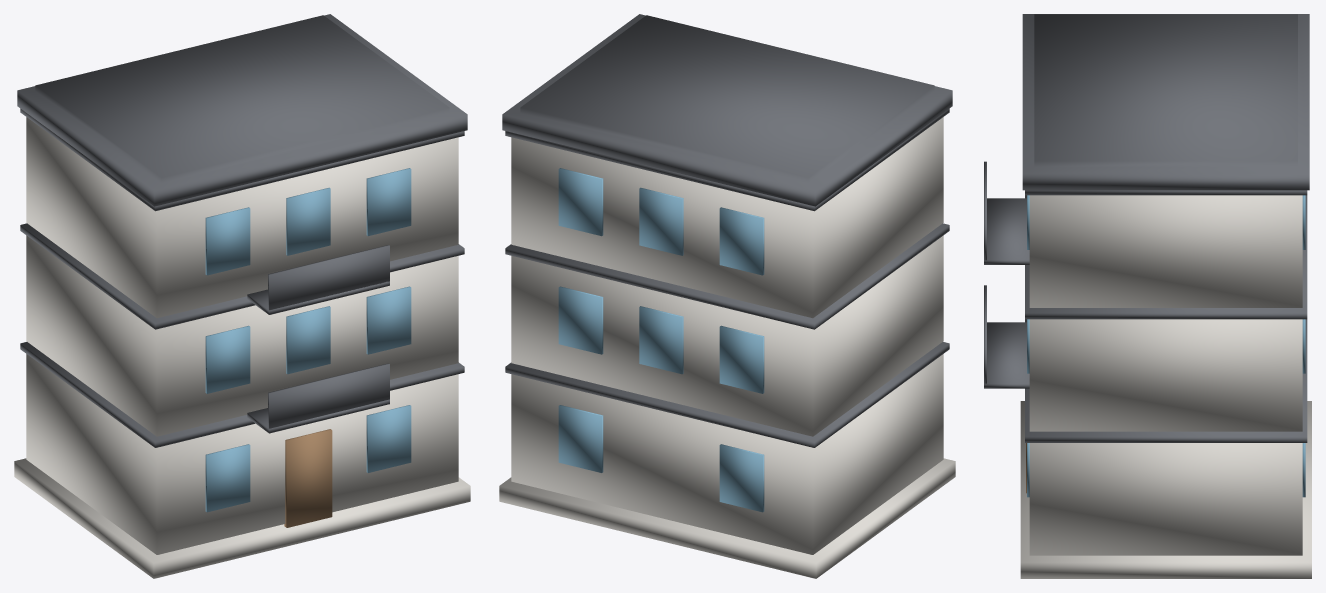
File: modular_building.glb
The picture shows the model from 3 angles, left to right: view 1: azimuth 30°, elevation 25°; view 2: azimuth 150°, elevation 25°; view 3: azimuth 270°, elevation 25°; orthographic projection. The views are drawn at different scales.
Visible parts, largest first — view 1: ModularBuilding; view 2: ModularBuilding; view 3: ModularBuilding.
Boxes of the visible parts, left/top/right/bottom form: ModularBuilding: left=14, top=14, right=470, bottom=578; ModularBuilding: left=499, top=14, right=955, bottom=578; ModularBuilding: left=984, top=14, right=1311, bottom=578.
Bounding box in the file's own units: 8.4 × 9.95 × 7.2.
